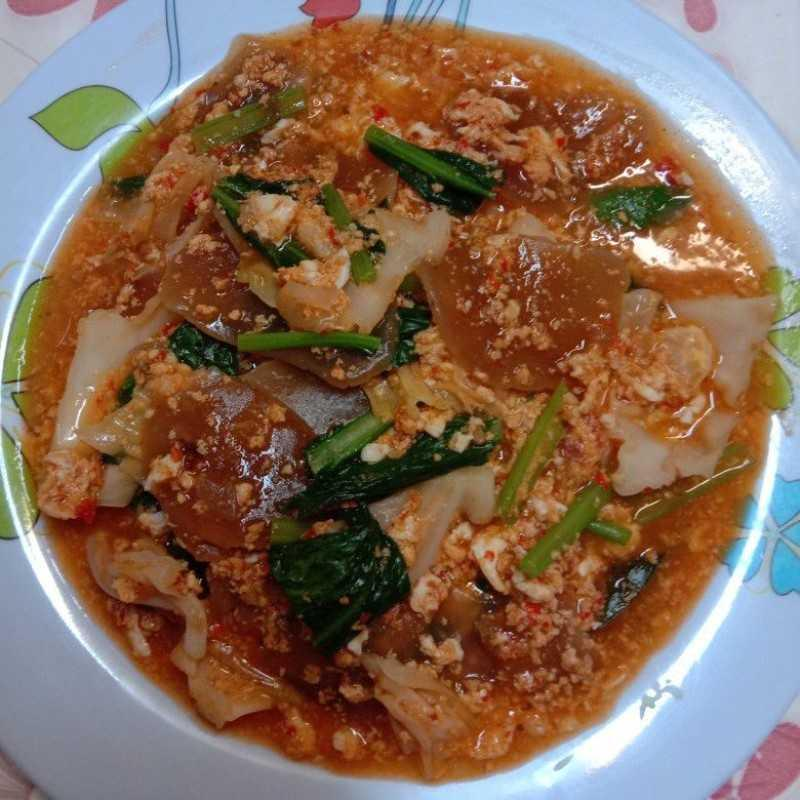seblak: (26, 20, 771, 787)
